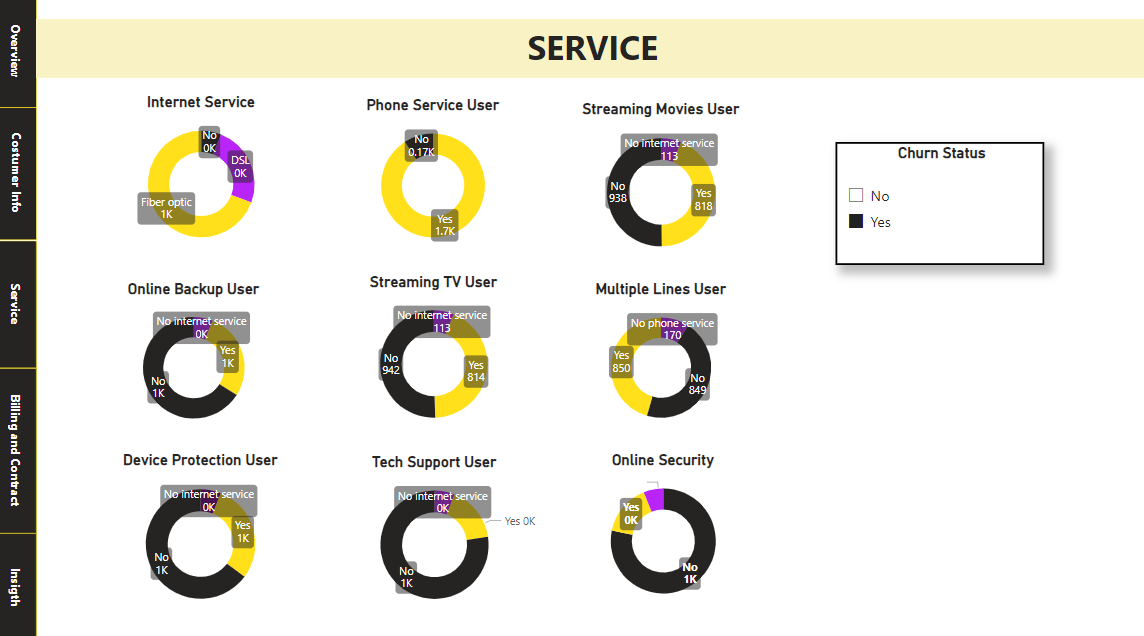

The page's visual inventory and layout, read from the dashboard file:
{"tool":"powerbi","page":{"name":"Service","canvas":[1280,720],"ordinal":2},"visuals":[{"type":"donutChart","title":"Phone Service User","fields":{"Category":["Tabel.PhoneService"],"Y":["CountNonNull(Tabel.PhoneService)"]},"box":[338.3,111.7,291.7,180],"z":0},{"type":"donutChart","title":"Internet Service","fields":{"Category":["Tabel.InternetService"],"Y":["Tabel.Total Pelanggan"]},"box":[70,108.3,313.3,183.3],"z":1000},{"type":"donutChart","title":"Device Protection User","fields":{"Category":["Tabel.DeviceProtection"],"Y":["Tabel.Total Pelanggan"]},"box":[56.7,506.7,338.3,186.7],"z":2000},{"type":"donutChart","title":"Online Security","fields":{"Category":["Tabel.OnlineSecurity"],"Y":["Tabel.Total Pelanggan"]},"box":[573.3,506.7,333.3,180],"z":3000},{"type":"donutChart","title":"Online Backup User","fields":{"Category":["Tabel.OnlineBackup"],"Y":["Tabel.Total Pelanggan"]},"box":[56.7,316.7,323.3,175],"z":4000},{"type":"donutChart","title":"Tech Support User","fields":{"Category":["Tabel.TechSupport"],"Y":["Tabel.Total Pelanggan"]},"box":[320,508.3,331.7,185],"z":5000},{"type":"donutChart","title":"Streaming TV User","fields":{"Category":["Tabel.StreamingTV"],"Y":["Tabel.Total Pelanggan"]},"box":[316.7,308.3,336.7,183.3],"z":6000},{"type":"donutChart","title":"Multiple Lines User","fields":{"Category":["Tabel.MultipleLines"],"Y":["Tabel.Total Pelanggan"]},"box":[598.3,316.7,278.3,175],"z":7000},{"type":"donutChart","title":"Streaming Movies User","fields":{"Category":["Tabel.StreamingMovies"],"Y":["Tabel.Total Pelanggan"]},"box":[573.3,116.7,328.3,185],"z":8000},{"type":"slicer","title":"Churn Status","fields":{"Values":["Tabel.Churn"]},"box":[932.1,163.8,232.2,136.8],"z":9000},{"type":"shape","box":[0,0,43.8,125.5],"z":10000},{"type":"shape","box":[0,125.5,43.8,147.4],"z":11000},{"type":"shape","box":[0,272.9,43.8,141.4],"z":12000},{"type":"shape","box":[0,414.3,43.8,183.2],"z":13000},{"type":"shape","box":[0,597.5,43.8,121.5],"z":14000},{"type":"textbox","box":[43.3,26.7,1236.7,65],"z":15000}]}

Visuals, with their boxes on the page's 1280x720 design canvas (x1, y1, x2, y2). These are canvas units, not pixel positions in the 1144x636 screenshot, which may show the page scaled, cropped or inside an application window:
"Phone Service User" donutChart: <region>338, 112, 630, 292</region>
"Internet Service" donutChart: <region>70, 108, 383, 292</region>
"Device Protection User" donutChart: <region>57, 507, 395, 693</region>
"Online Security" donutChart: <region>573, 507, 907, 687</region>
"Online Backup User" donutChart: <region>57, 317, 380, 492</region>
"Tech Support User" donutChart: <region>320, 508, 652, 693</region>
"Streaming TV User" donutChart: <region>317, 308, 653, 492</region>
"Multiple Lines User" donutChart: <region>598, 317, 877, 492</region>
"Streaming Movies User" donutChart: <region>573, 117, 902, 302</region>
"Churn Status" slicer: <region>932, 164, 1164, 301</region>
shape: <region>0, 0, 44, 126</region>
shape: <region>0, 126, 44, 273</region>
shape: <region>0, 273, 44, 414</region>
shape: <region>0, 414, 44, 598</region>
shape: <region>0, 598, 44, 719</region>
textbox: <region>43, 27, 1280, 92</region>
